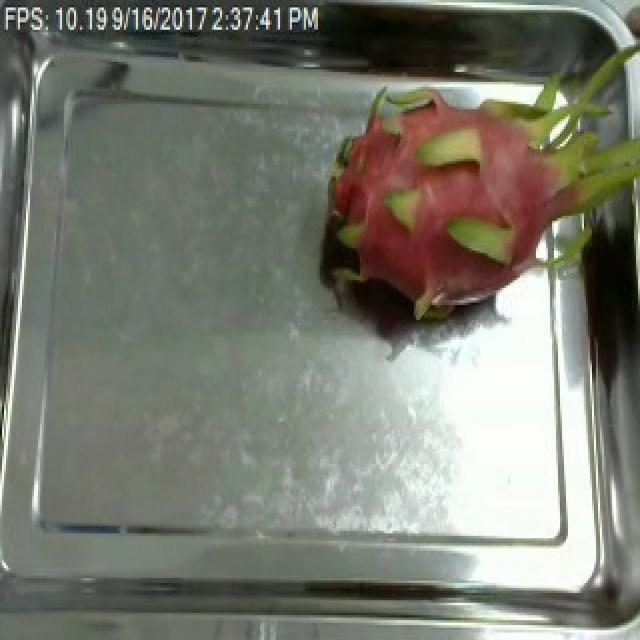fruit: (300, 0, 640, 360)
